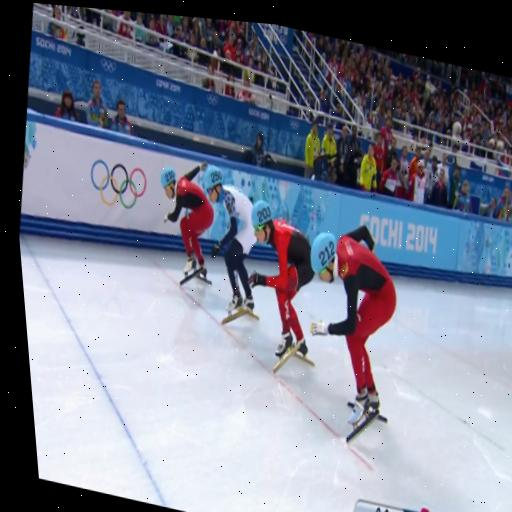Skater: (311, 226, 396, 425), (250, 201, 313, 372), (203, 167, 256, 313), (161, 163, 214, 280)
